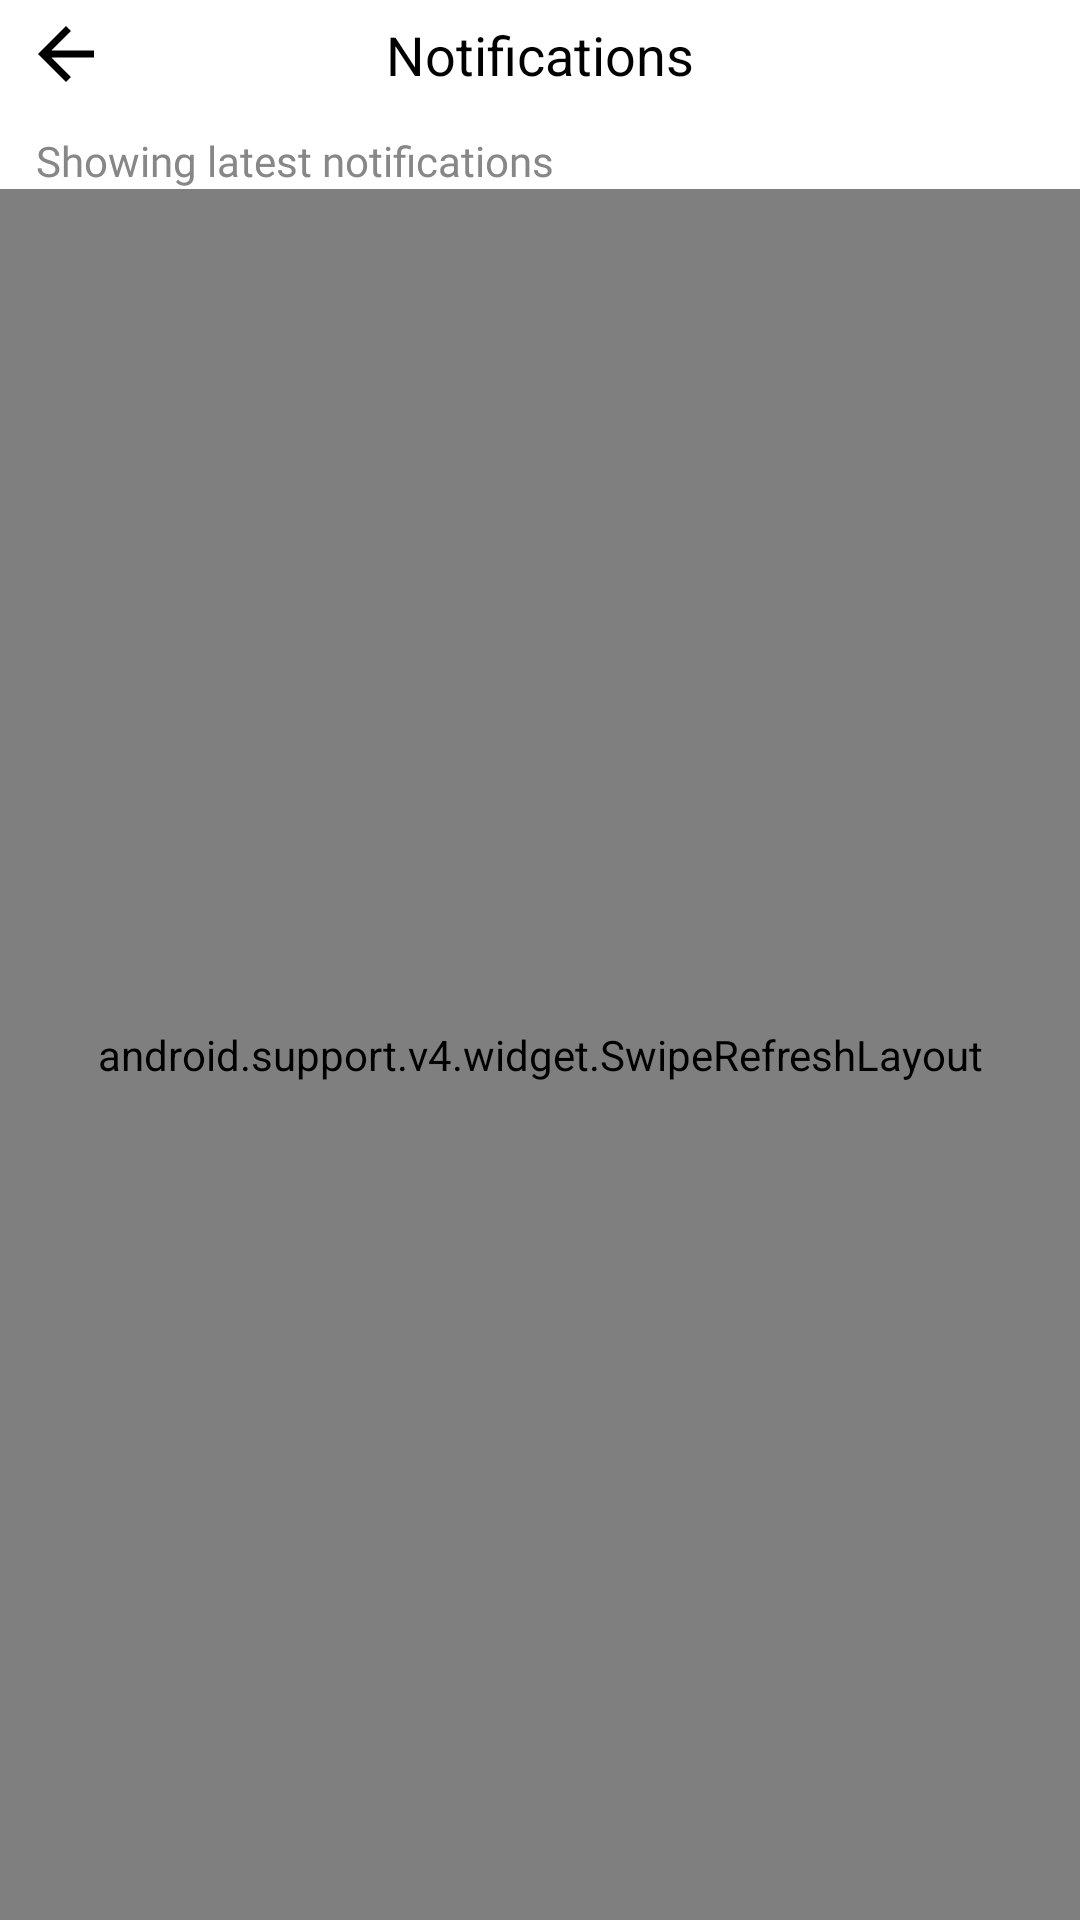

Where to tap for icons on this 1080x1920 app screen, as (x,y):
arrow back: (66,54)
